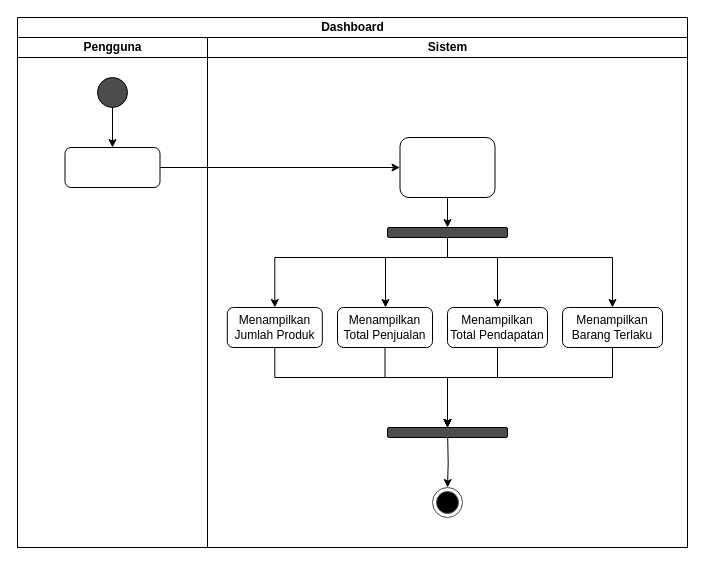
Some shapes in this 705 by 565 pixel diagram are drawn without their labels. The centre of each missing label's shape, as x and y in pixels:
Menampilkan Halaman Dashboard: the point at 447,167
Pilih menu dashboard: the point at 112,167
